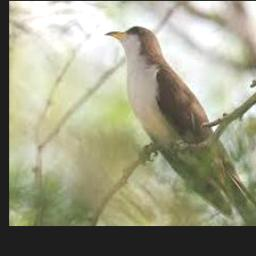Cuckoo: (105, 27, 256, 226)
